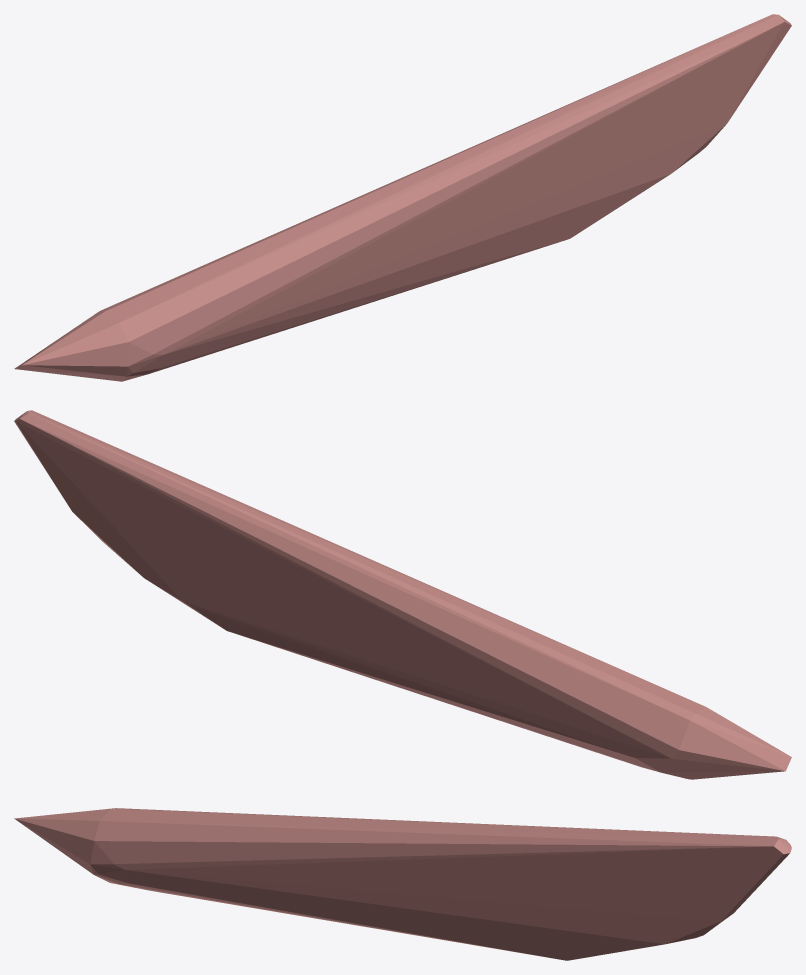
Rendered from instrument_suction_a01.glb.
3 renders of one model, top to bottom at view 1: azimuth 30°, elevation 25°; view 2: azimuth 150°, elevation 25°; view 3: azimuth 330°, elevation 25°, orthographic.
Parts seen in each view (by area): view 1: geometry_0; view 2: geometry_0; view 3: geometry_0.
Boxes of the visible parts, left/top/right/bottom form: geometry_0: left=14, top=14, right=791, bottom=381; geometry_0: left=14, top=410, right=791, bottom=779; geometry_0: left=14, top=808, right=791, bottom=960.
Bounding box in the file's own units: 0.48 × 0.1203 × 0.0406.
